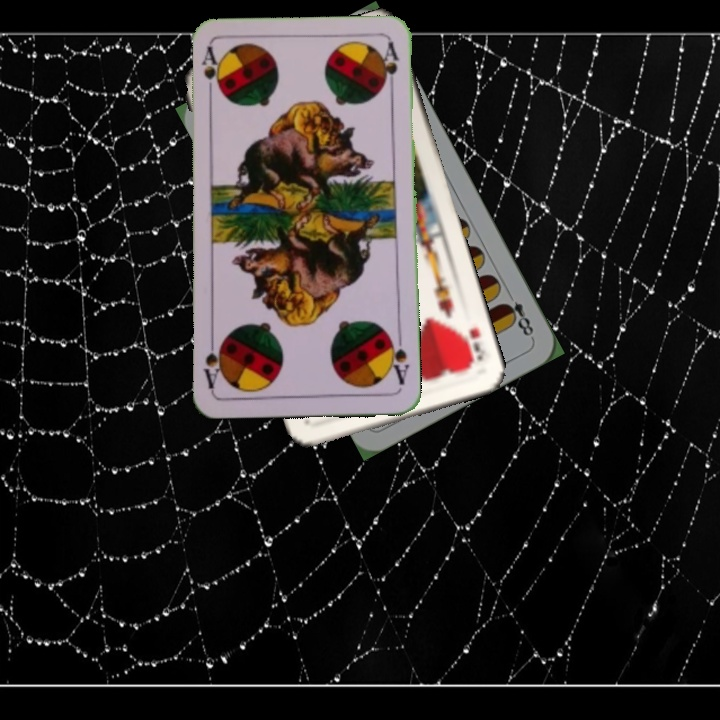E8: (498, 286, 537, 341)
HK: (457, 323, 489, 366)
SA: (384, 330, 412, 387), (198, 43, 221, 102)
